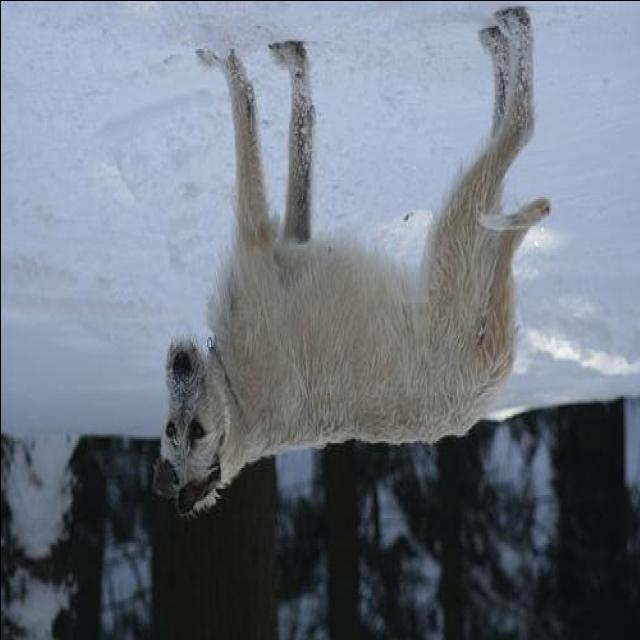irish_wolfhound: (150, 6, 550, 517)
